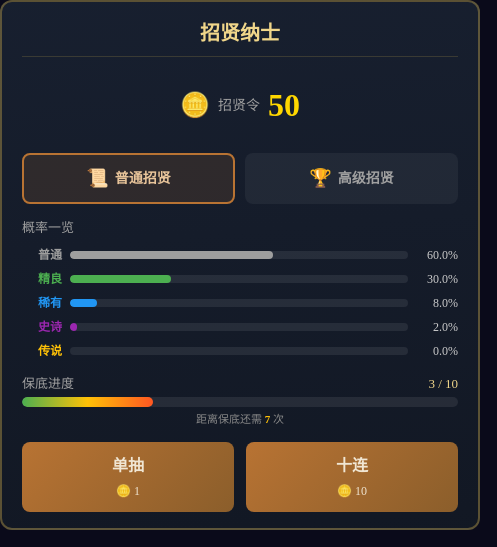
RecruitPanel › 招贤令不足时十连按钮禁用
Click the button with test id "mode-btn-advanced" at [352, 178], box left=245, top=153, right=458, bottom=204
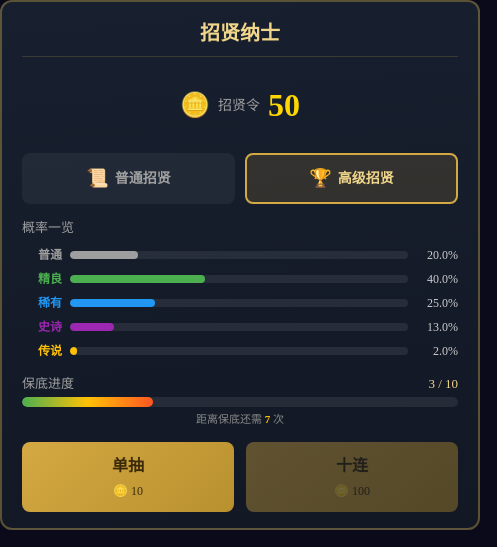
Expected: the button with test id "btn-multi-recruit" is disabled, left=246, top=442, right=458, bottom=512
